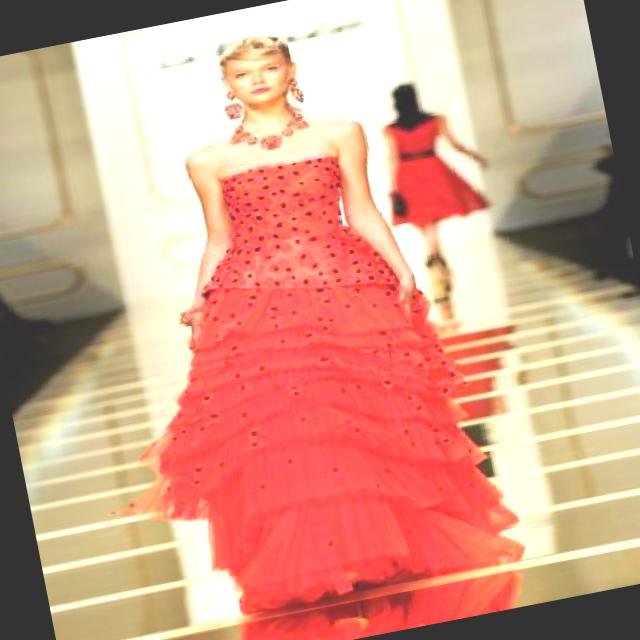Person: (100, 0, 496, 640)
